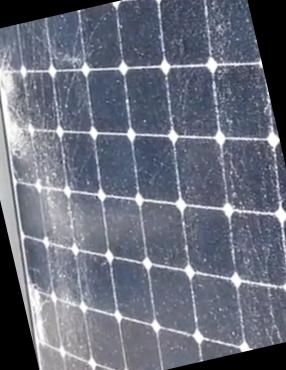Crack: (22, 277, 74, 356), (0, 105, 48, 170), (0, 54, 29, 105)
